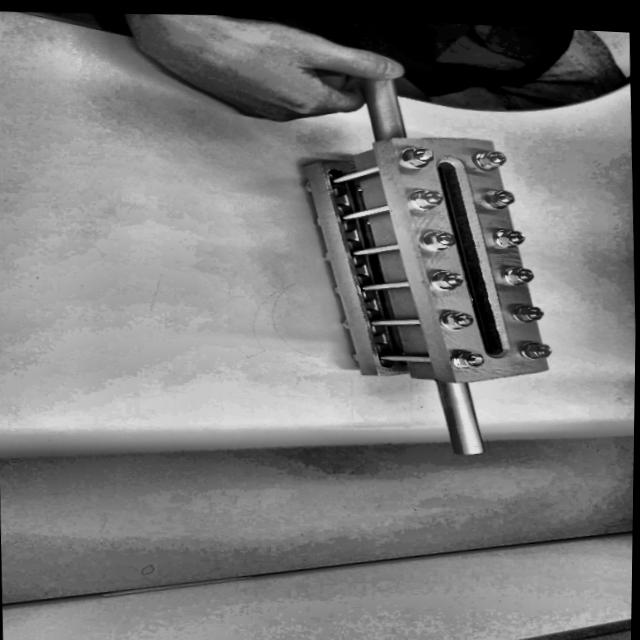ShuiWeiQi_12: (304, 97, 605, 463)
